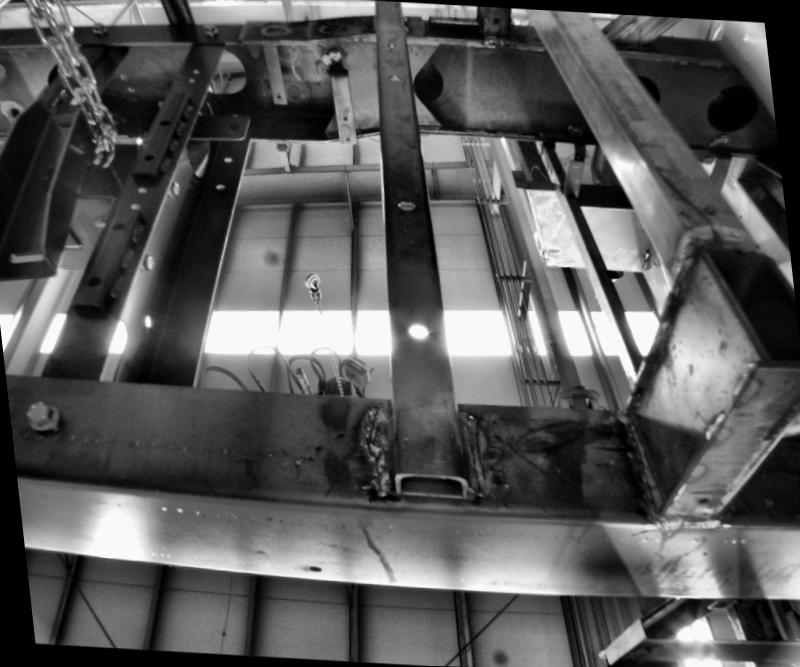bolt: (18, 396, 56, 428), (163, 178, 185, 199), (132, 248, 154, 268), (200, 21, 224, 38), (86, 21, 110, 38)
bracket: (322, 47, 356, 151), (194, 102, 252, 138), (262, 36, 292, 105), (554, 149, 594, 196)
hole: (399, 310, 432, 340), (394, 194, 420, 213), (702, 196, 722, 209), (136, 308, 150, 322), (698, 493, 711, 505), (386, 73, 401, 80), (222, 118, 236, 125), (137, 186, 148, 194), (186, 76, 196, 84), (307, 566, 320, 572), (128, 202, 140, 208), (223, 156, 233, 162), (214, 182, 224, 188), (570, 162, 580, 168), (492, 15, 500, 22), (385, 39, 395, 44), (274, 92, 282, 98), (340, 116, 348, 122), (192, 66, 198, 73), (343, 136, 351, 140)
welding: (453, 404, 499, 494), (362, 396, 388, 501)
